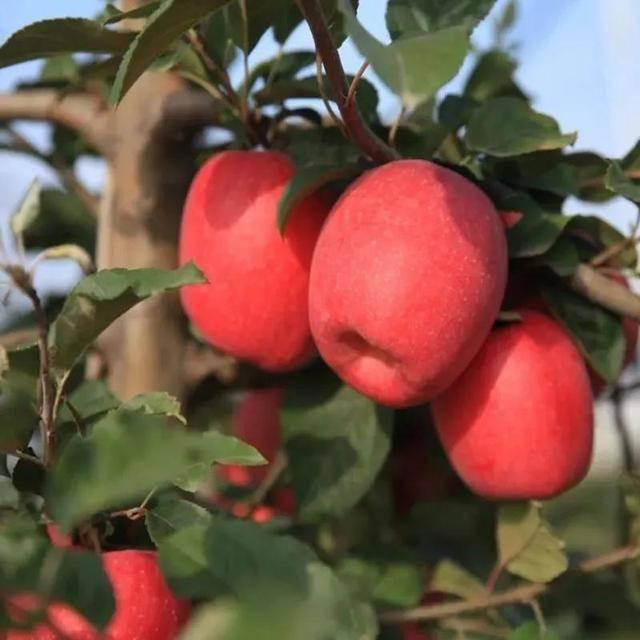apple: (306, 161, 515, 401), (429, 309, 595, 503), (175, 148, 317, 369), (1, 520, 187, 640)
